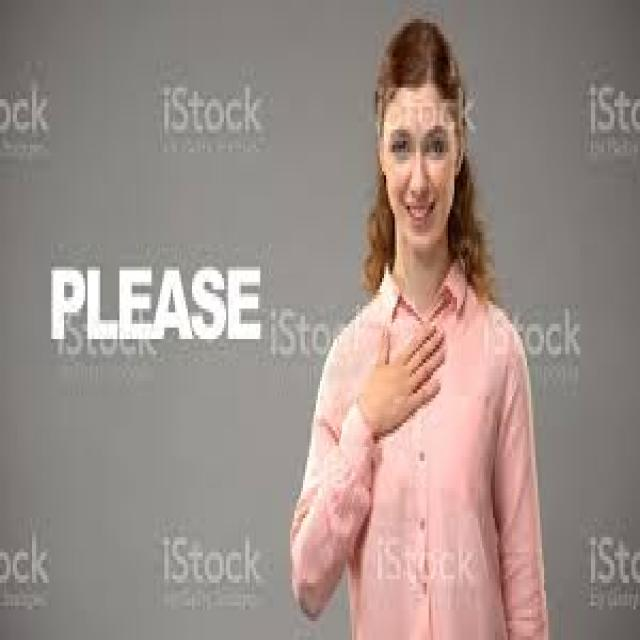Please: (343, 292, 455, 451)
